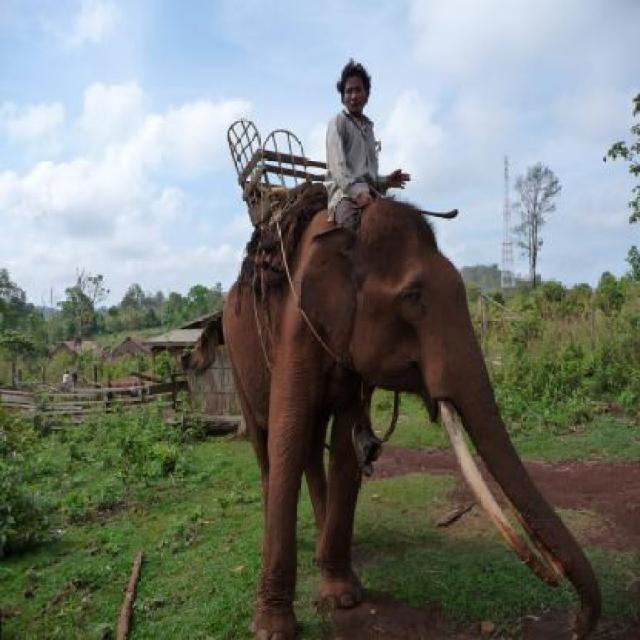Elephant: (202, 172, 583, 619)
